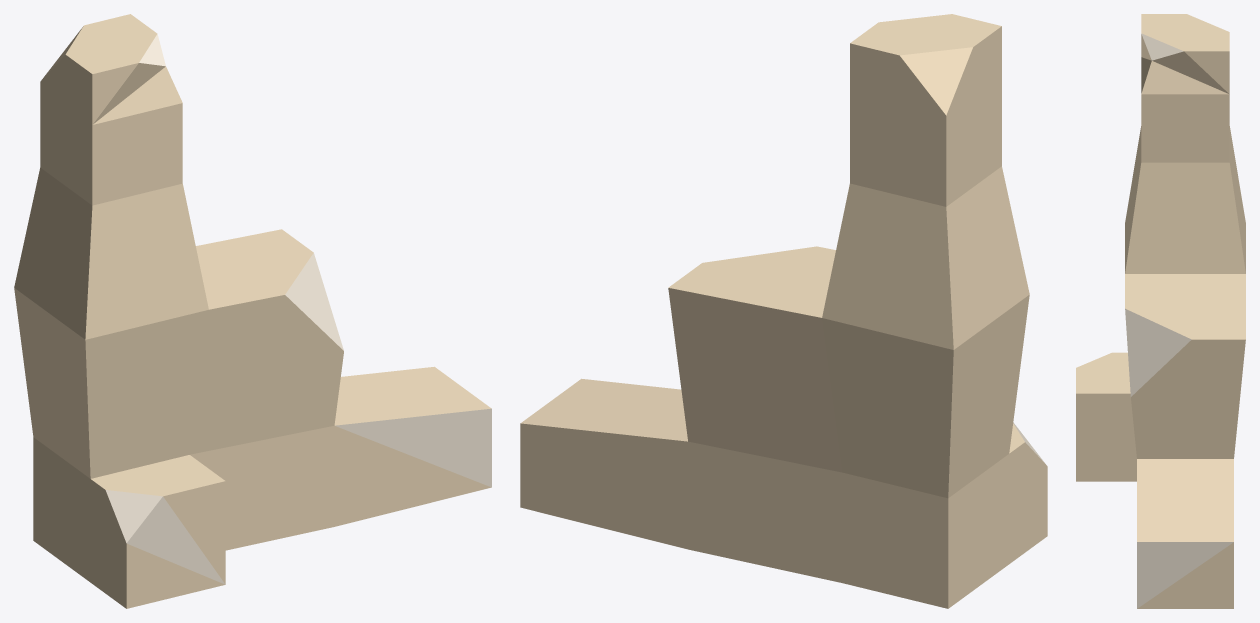
File: ruin_8.fbx
3 views of the same model, side by side, from view 1: azimuth 30°, elevation 25°; view 2: azimuth 150°, elevation 25°; view 3: azimuth 270°, elevation 25° (orthographic). The views are drawn at different scales.
Parts seen in each view (by area): view 1: ruin_8; view 2: ruin_8; view 3: ruin_8.
Part boxes in pixels (x1,y1,x2,y2): ruin_8: [14, 14, 491, 608]; ruin_8: [520, 14, 1047, 608]; ruin_8: [1076, 14, 1245, 608].
Bounding box in the file's own units: 160 × 189 × 67.23.
